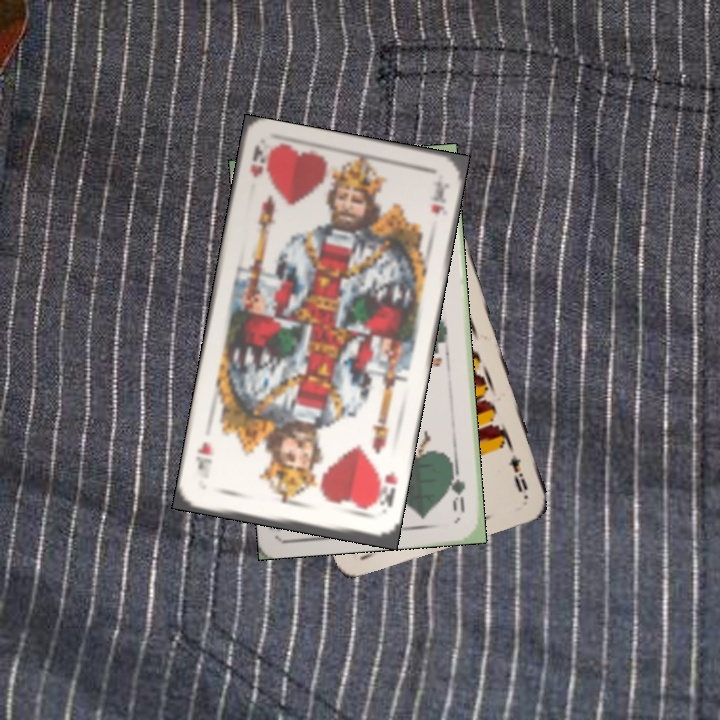E9: (504, 450, 530, 495)
GO: (446, 459, 468, 515)
HK: (368, 467, 400, 510), (245, 142, 273, 180)
